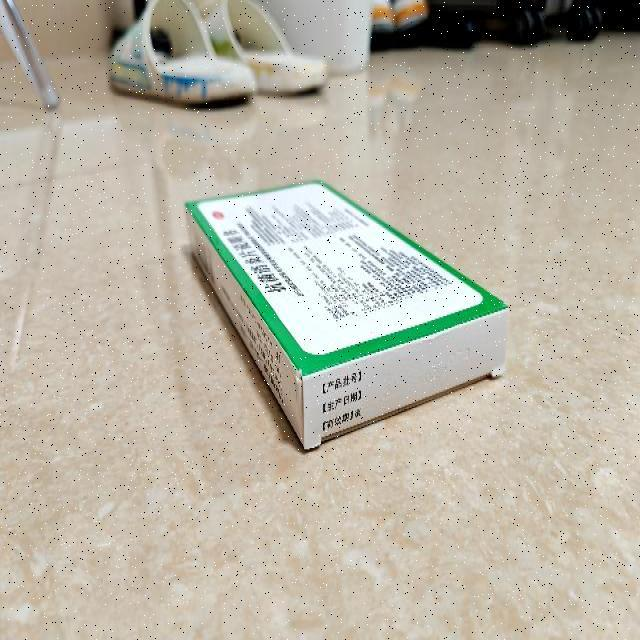box: (187, 178, 509, 454)
